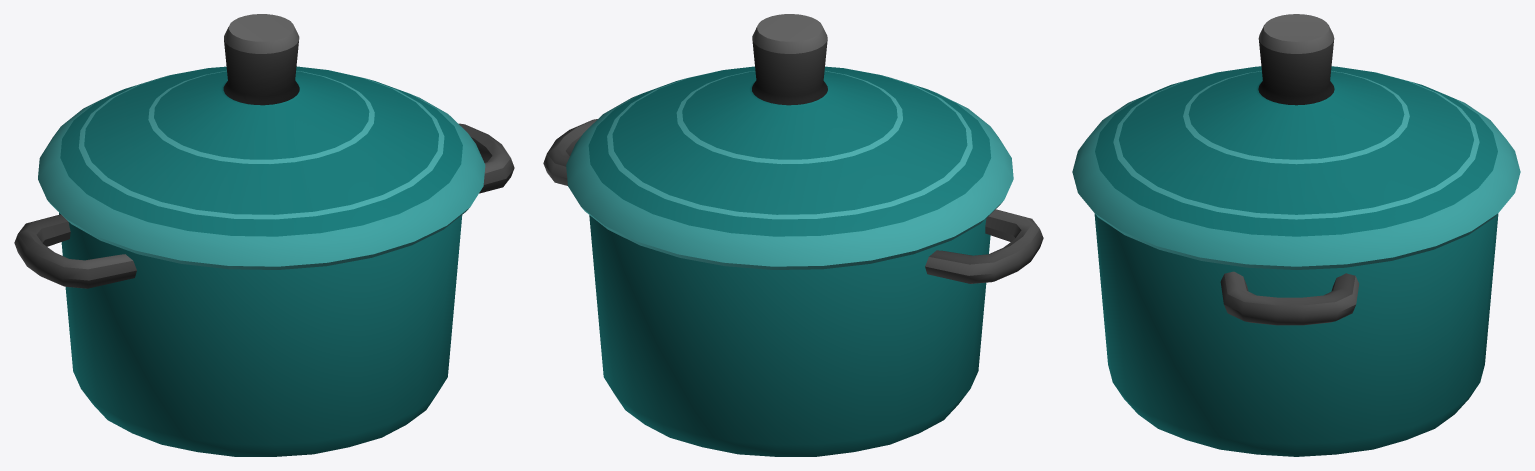
The model's file is Pan_19.fbx.
The picture shows the model from 3 angles, left to right: view 1: azimuth 30°, elevation 25°; view 2: azimuth 150°, elevation 25°; view 3: azimuth 270°, elevation 25°; orthographic projection.
Visible parts, largest first — view 1: Pan_19 Top, Pan_19; view 2: Pan_19 Top, Pan_19; view 3: Pan_19 Top, Pan_19.
Boxes of the visible parts, left/top/right/bottom form: Pan_19 Top: left=38, top=14, right=485, bottom=269; Pan_19: left=14, top=123, right=514, bottom=456; Pan_19 Top: left=566, top=14, right=1013, bottom=269; Pan_19: left=543, top=119, right=1043, bottom=456; Pan_19 Top: left=1072, top=14, right=1520, bottom=269; Pan_19: left=1094, top=213, right=1498, bottom=456.
Size of the model in its own units: 0.2465 by 0.1788 by 0.2049.
Materials: 1 (1 with a texture image).
